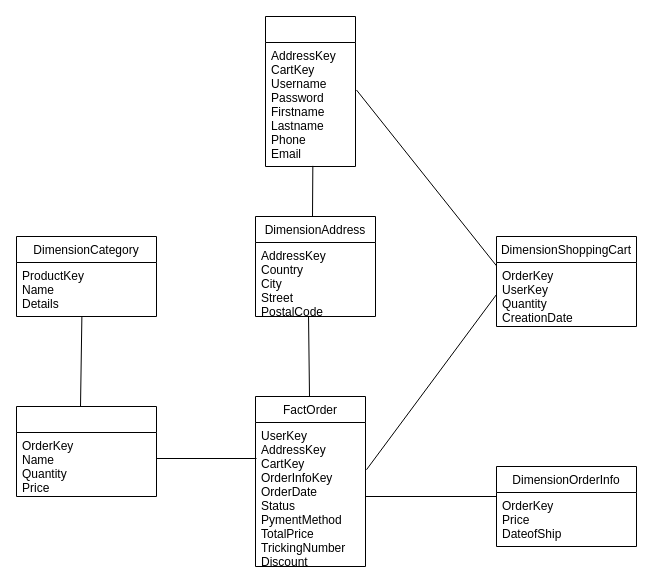
Some shapes in this 653 by 585 pixel diagram are drawn without their labels. The box of each missing label's shape, as (x1, y1, x2, y2) in pixels:
DimensionProduct: (16, 406, 156, 496)
FactUser: (264, 16, 356, 166)
